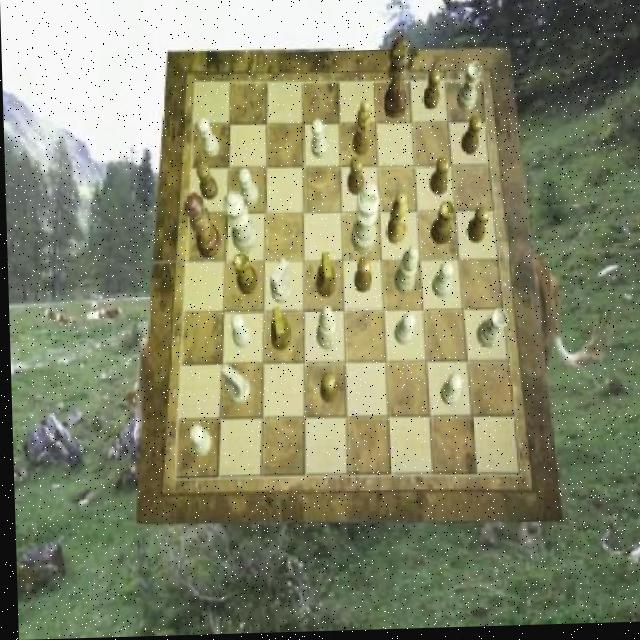bishop: (383, 195, 407, 248), (350, 102, 371, 159)
black-bishop: (381, 40, 411, 122)
black-king: (314, 254, 335, 300), (267, 309, 289, 352)
black-knight: (458, 118, 482, 157), (465, 209, 489, 247), (428, 160, 450, 198), (422, 73, 441, 113), (196, 165, 217, 201), (347, 158, 365, 196), (352, 259, 371, 294), (317, 374, 337, 405)
black-pawn: (183, 194, 221, 260)
black-queen: (428, 204, 455, 248), (232, 252, 258, 295)
black-rook: (392, 249, 418, 297), (313, 308, 335, 351)
white-bishop: (349, 185, 381, 256)
white-king: (220, 365, 250, 406), (268, 259, 290, 306)
white-knight: (429, 265, 453, 302), (196, 120, 218, 160), (238, 169, 259, 207), (438, 377, 462, 410), (187, 425, 210, 458), (392, 314, 414, 348), (229, 315, 250, 350), (311, 122, 328, 161)
white-pawn: (221, 191, 258, 254)
white-queen: (475, 311, 509, 352), (456, 64, 481, 114)
